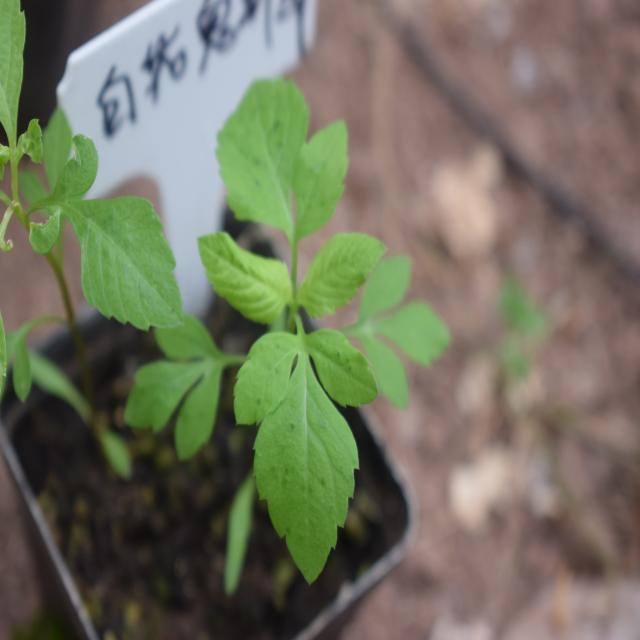Bidens pilosa: (164, 49, 406, 553)
